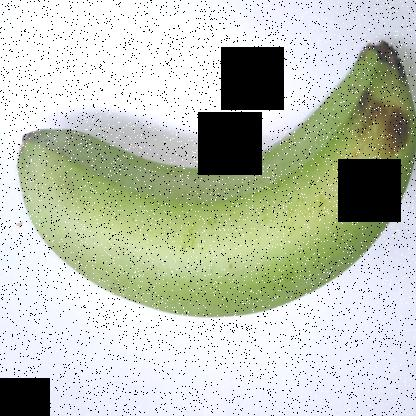freshunripe: (6, 24, 416, 327)
